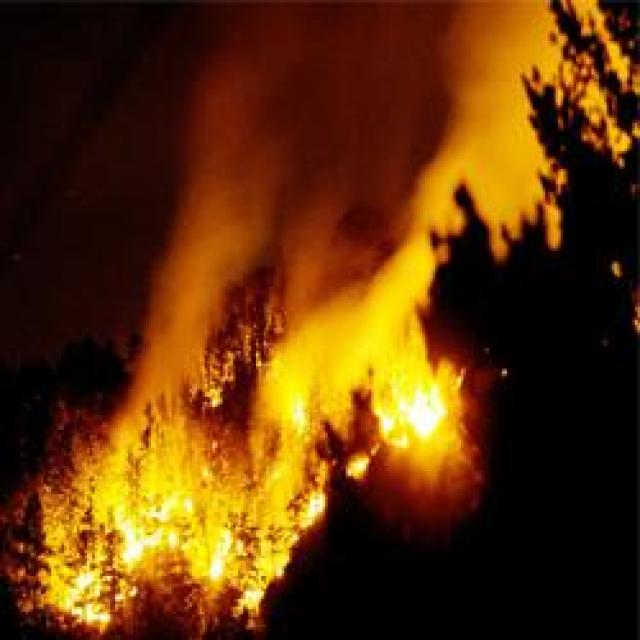fire: (396, 380, 446, 454), (115, 520, 151, 564)
smoke: (389, 433, 488, 524), (452, 32, 524, 152), (154, 234, 230, 301), (287, 321, 369, 378)
